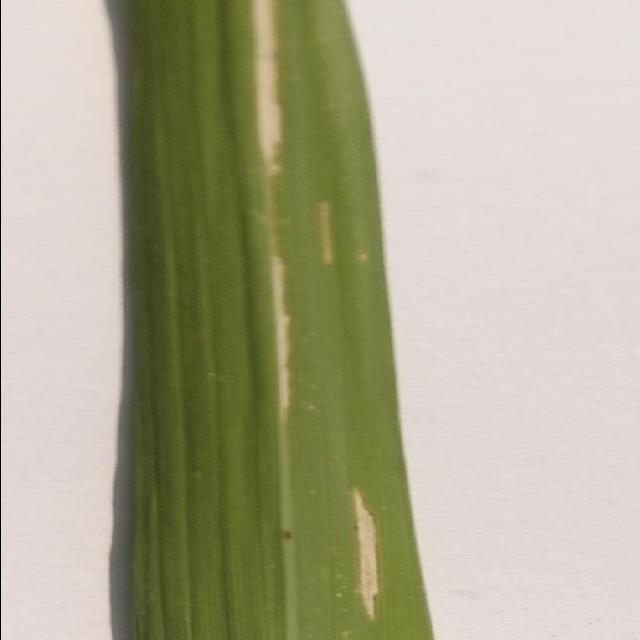Bacterial_Leaf_Blight: (248, 0, 301, 450), (313, 484, 403, 640)
